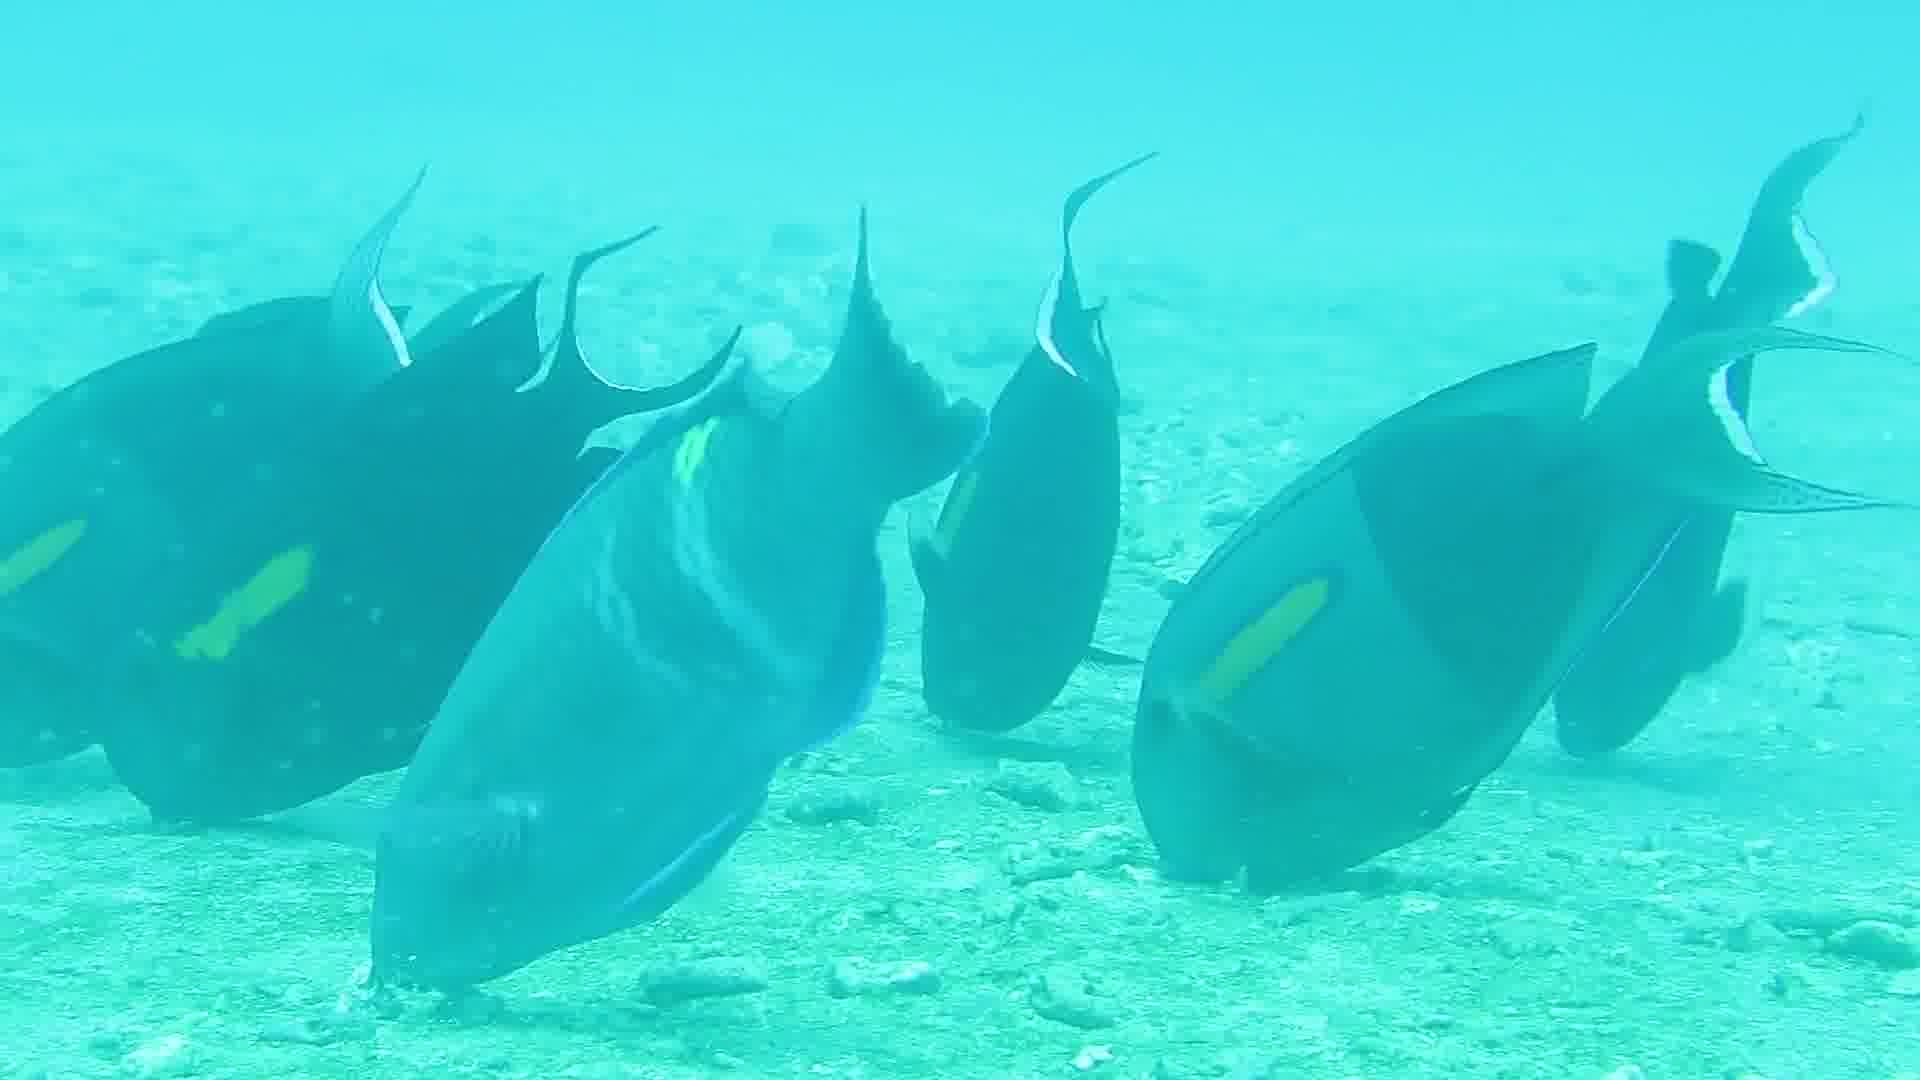Acanthurus olivaceus: (1106, 251, 1880, 848), (365, 289, 951, 1026), (1, 174, 585, 911), (886, 222, 1149, 800)
